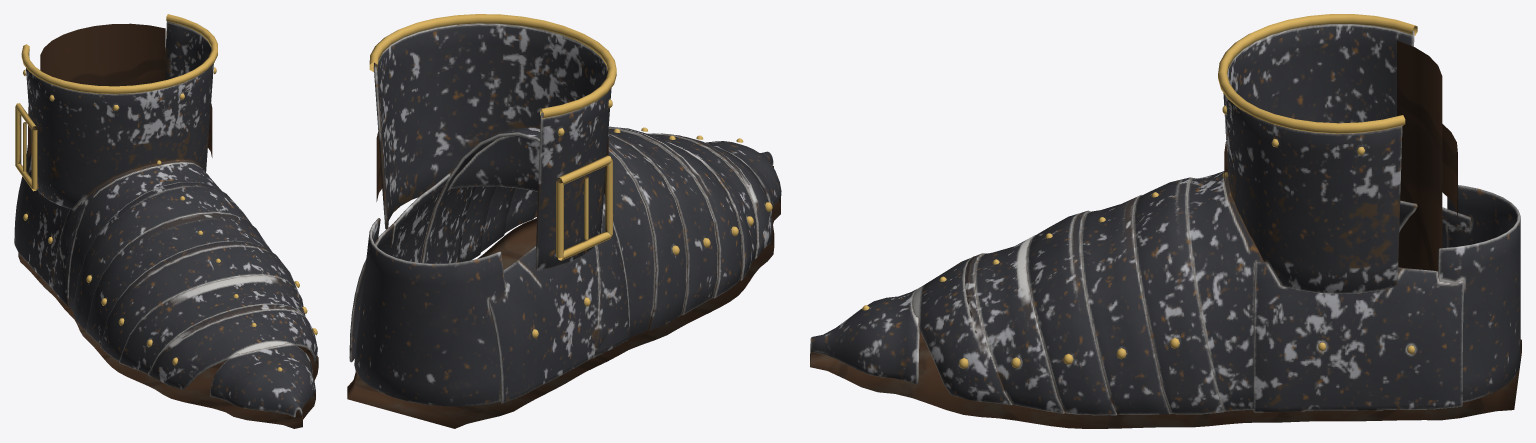
The model's file is SM_EagleSabatons_R.fbx.
3 renders of one model, left to right at view 1: azimuth 30°, elevation 25°; view 2: azimuth 150°, elevation 25°; view 3: azimuth 270°, elevation 25°, orthographic. The views are drawn at different scales.
Parts seen in each view (by area): view 1: SM_EagleSabatons_R; view 2: SM_EagleSabatons_R; view 3: SM_EagleSabatons_R.
Boxes of the visible parts, x1,y1,x2,y2 form: SM_EagleSabatons_R: [14, 14, 318, 428]; SM_EagleSabatons_R: [347, 14, 781, 428]; SM_EagleSabatons_R: [810, 14, 1521, 428].
Bounding box in the file's own units: 0.1193 × 0.1413 × 0.2953.
